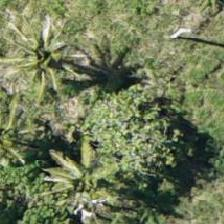coconut_tree: (33, 138, 123, 223), (0, 6, 83, 96), (0, 89, 53, 179)
